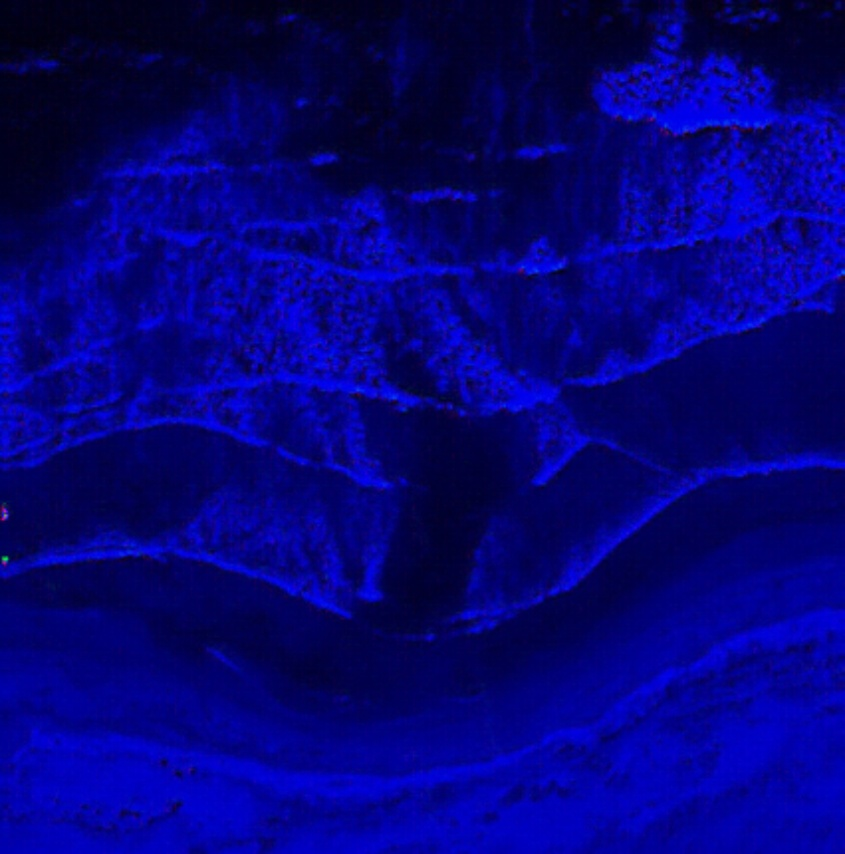rip_current: (268, 86, 559, 699)
